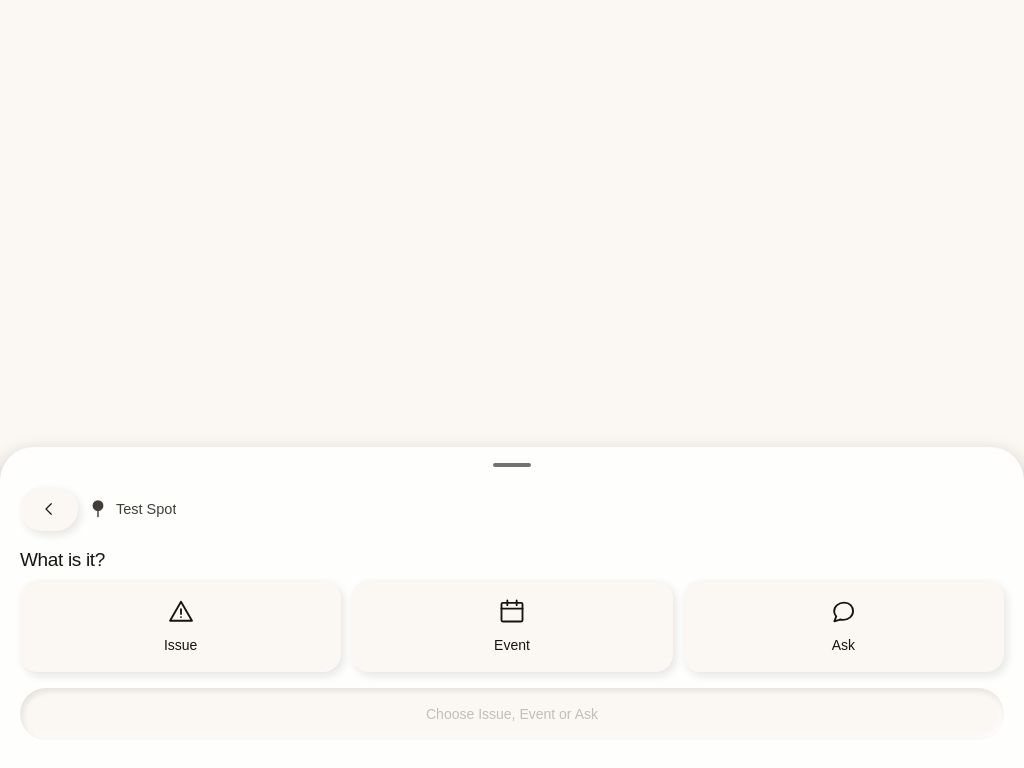
Scenario: details › an event needs a time and shows day chips
This screenshot has width=1024, height=768.
Click the radio button labelled "Event" at {"x": 512, "y": 626}, box x1=351 y1=580 x2=673 y2=672
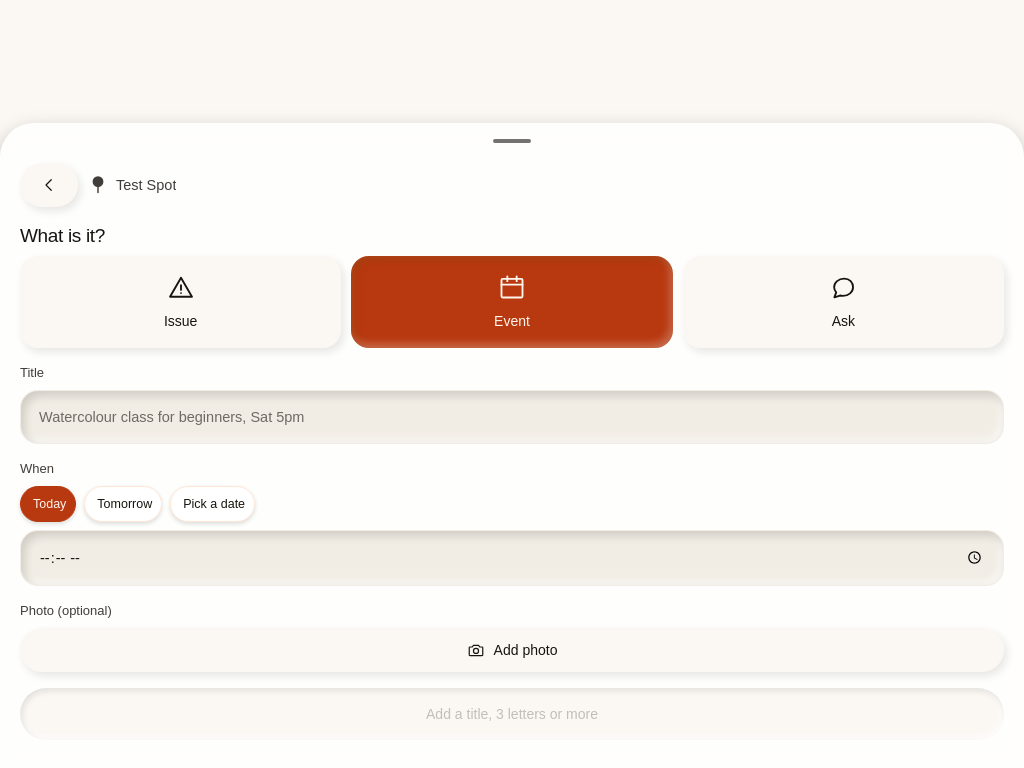
Type "Class" into the field labelled "Title" at {"x": 512, "y": 417}, box x1=20 y1=390 x2=1004 y2=444
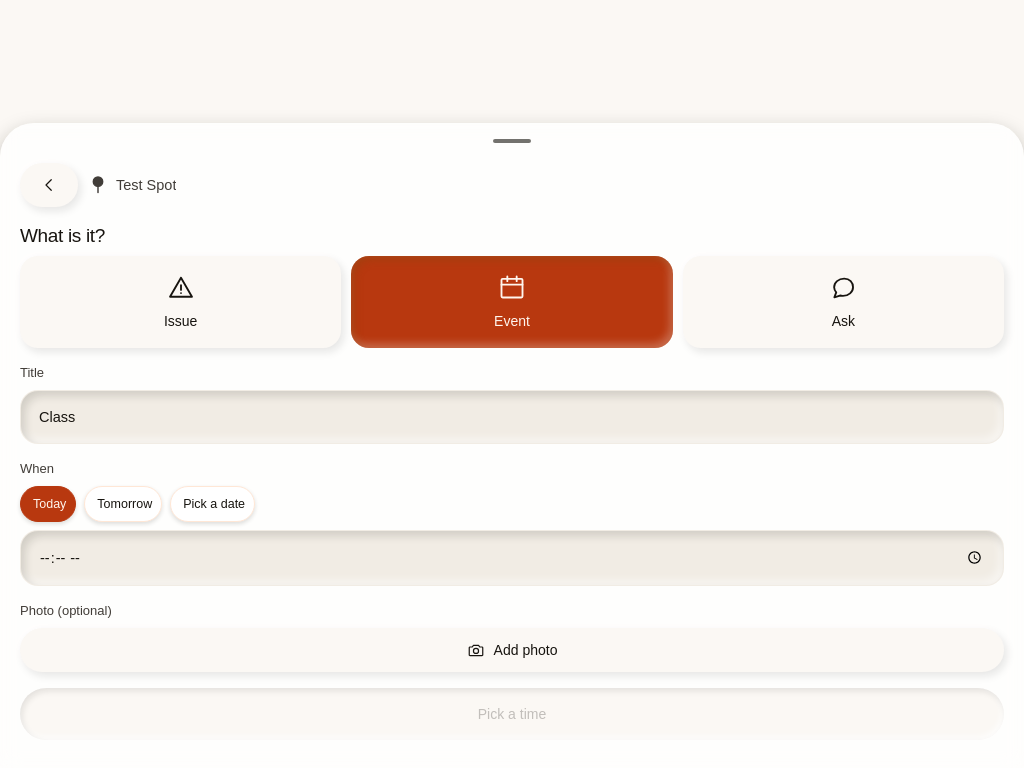
Expected: the button "Pick a time" is disabled, x1=20 y1=688 x2=1004 y2=740
Result: the button "Pick a time" is shown at x1=20 y1=688 x2=1004 y2=740
Click the radio button labelled "Tomorrow" at {"x": 123, "y": 504}, box x1=84 y1=486 x2=162 y2=522
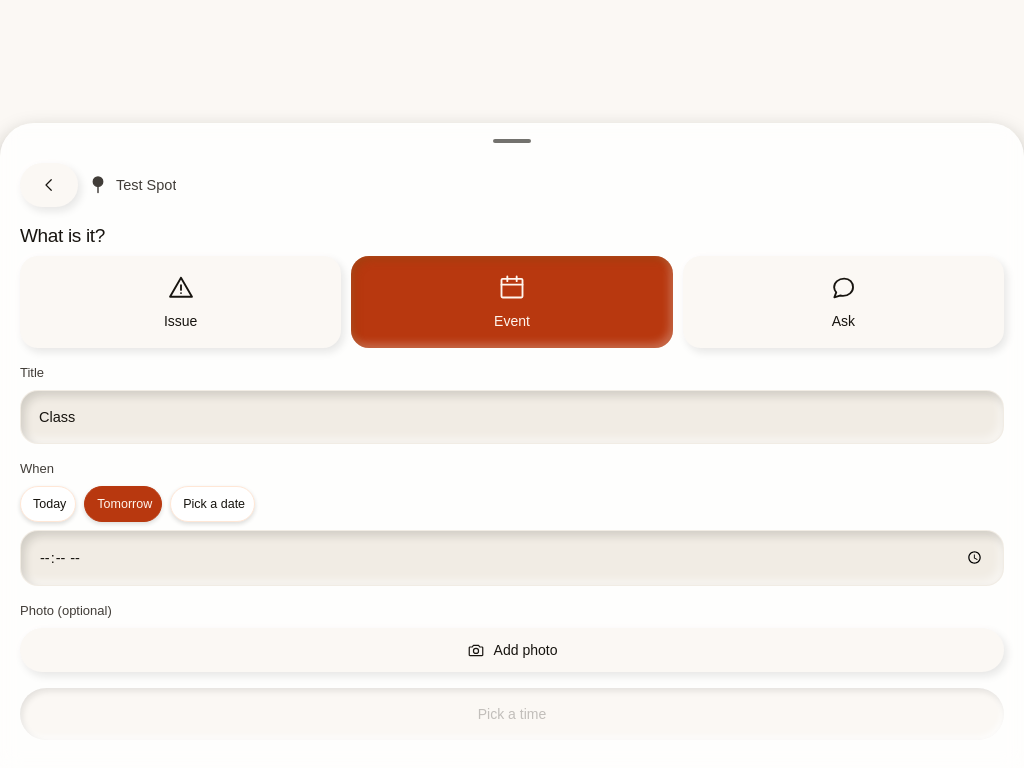
Type "17:00" into the time field named "Time" at {"x": 512, "y": 558}, box x1=20 y1=530 x2=1004 y2=586
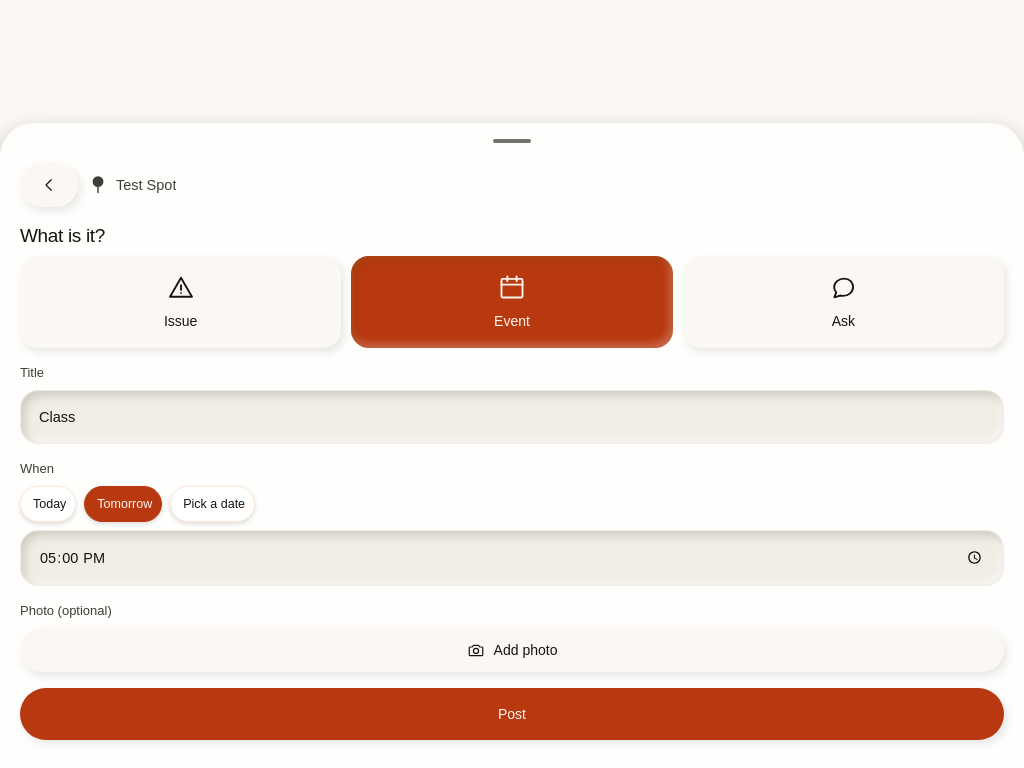
Result: the button "Post" is enabled at x1=20 y1=688 x2=1004 y2=740
Click the radio button labelled "Pick a date" at {"x": 213, "y": 504}, box x1=170 y1=486 x2=255 y2=522
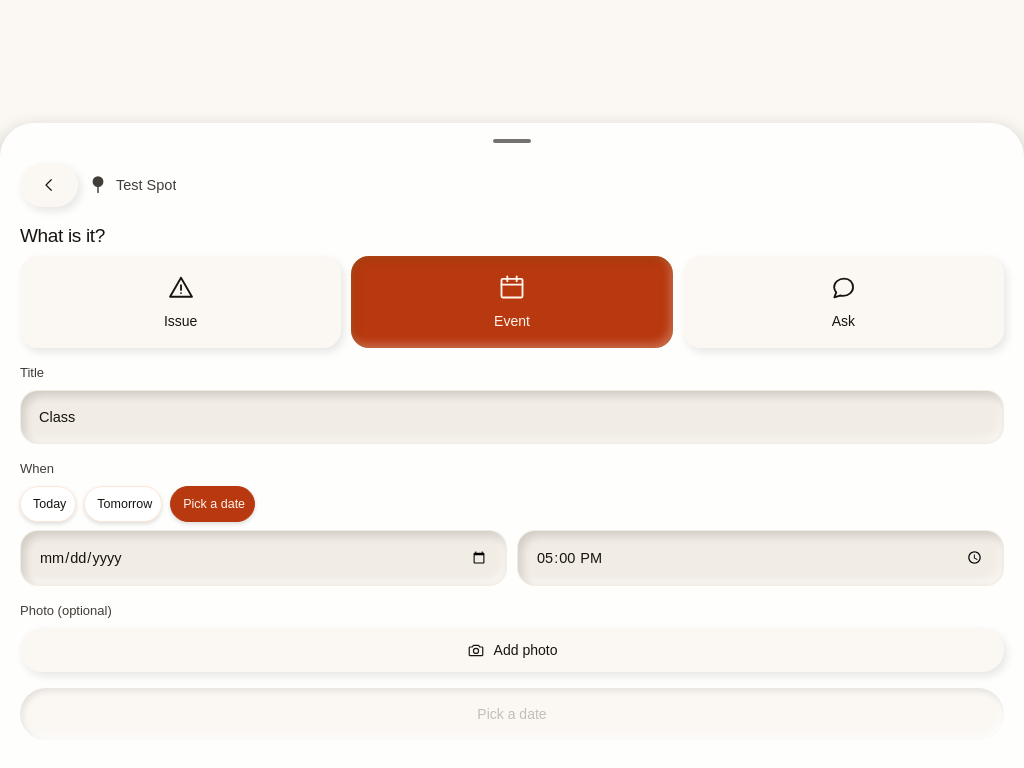
Result: the button "Pick a date" is shown at x1=20 y1=688 x2=1004 y2=740
Result: the date field named "Date" is shown at x1=20 y1=530 x2=507 y2=586
